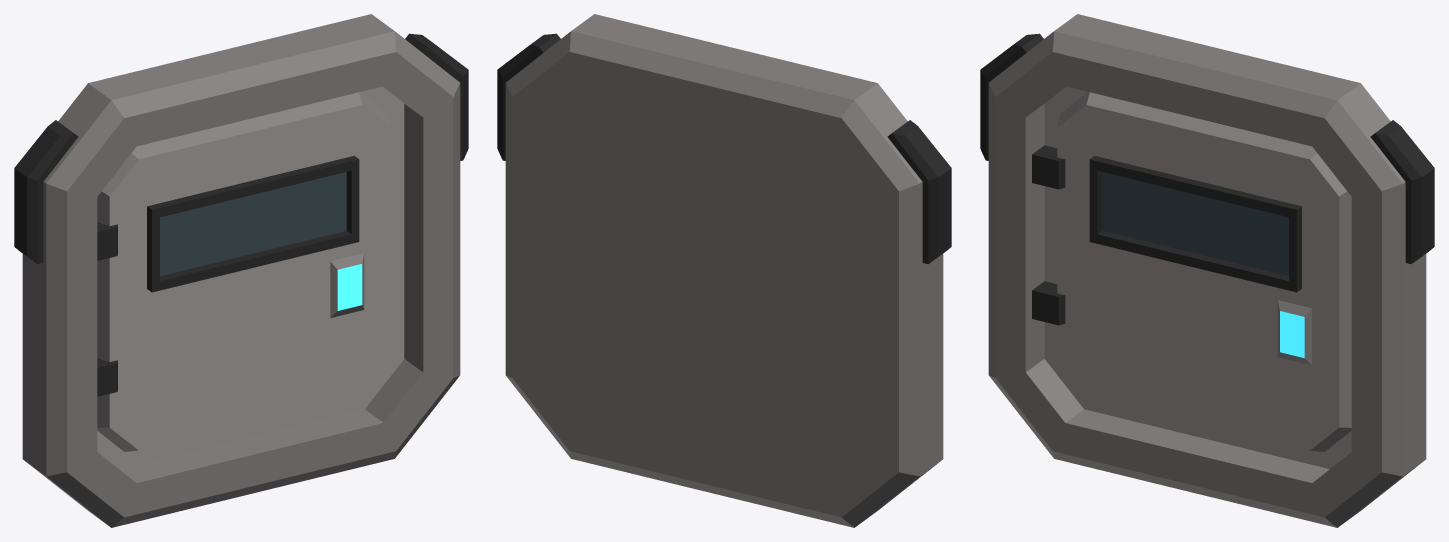
Rendered from scifi_scifi-planet-base-door.fbx.
3 renders of one model, left to right at view 1: azimuth 30°, elevation 25°; view 2: azimuth 150°, elevation 25°; view 3: azimuth 330°, elevation 25°, orthographic.
Visible parts, largest first — view 1: scifi_scifi_planet_base_door; view 2: scifi_scifi_planet_base_door; view 3: scifi_scifi_planet_base_door.
Boxes of the visible parts, left/top/right/bottom form: scifi_scifi_planet_base_door: left=14, top=14, right=468, bottom=527; scifi_scifi_planet_base_door: left=497, top=14, right=951, bottom=527; scifi_scifi_planet_base_door: left=980, top=14, right=1434, bottom=527.
Bounding box in the file's own units: 175 × 162 × 25.79.
